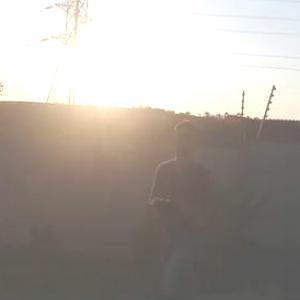follow: (145, 112, 219, 299)
